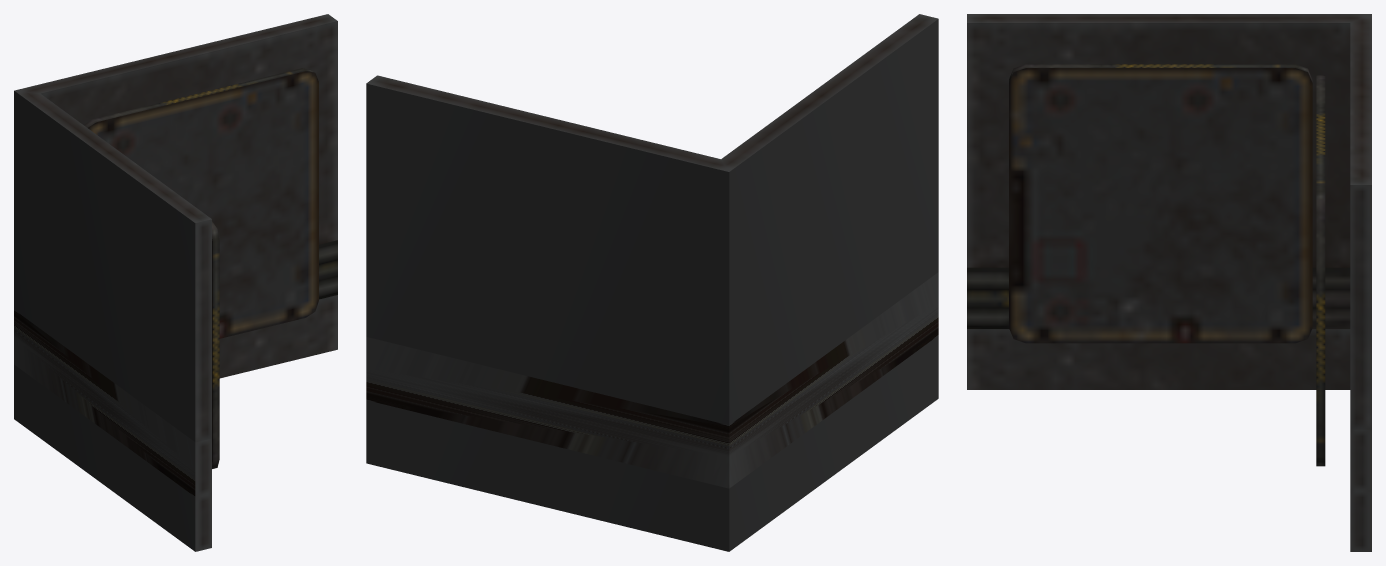
File: Wall_top_corner_in.FBX
3 renders of one model, left to right at view 1: azimuth 30°, elevation 25°; view 2: azimuth 150°, elevation 25°; view 3: azimuth 270°, elevation 25°, orthographic. The views are drawn at different scales.
Visible parts, largest first — view 1: Wall_top_corner_in; view 2: Wall_top_corner_in; view 3: Wall_top_corner_in.
Boxes of the visible parts, box(x1,y1,x2,y2) form: Wall_top_corner_in: box(14, 14, 337, 551); Wall_top_corner_in: box(366, 14, 938, 551); Wall_top_corner_in: box(967, 14, 1371, 551).
Size of the model in its own units: 300 by 300 by 300.
